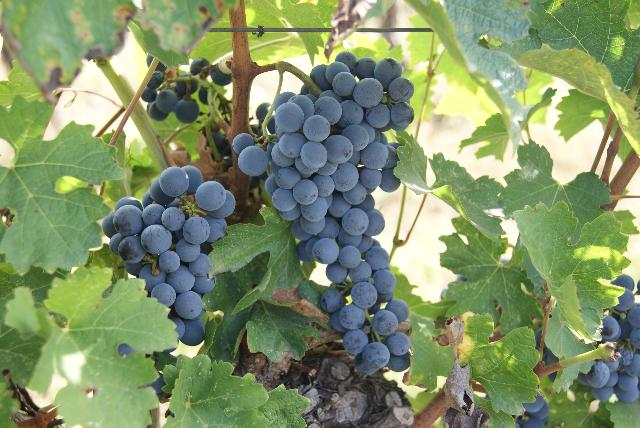grapes: (232, 51, 414, 375), (110, 166, 235, 345)
